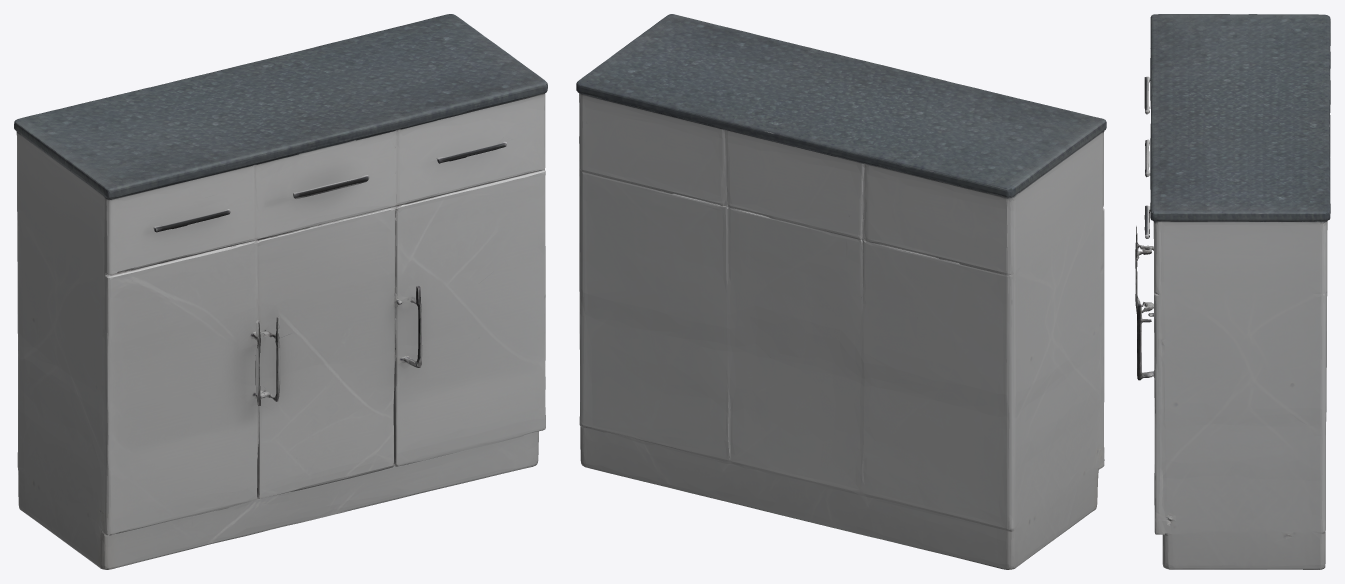
The model's file is 50113hy_kitchenbase_3door_grey_plaza.glb.
3 views of the same model, side by side, from view 1: azimuth 30°, elevation 25°; view 2: azimuth 150°, elevation 25°; view 3: azimuth 270°, elevation 25° (orthographic). The views are drawn at different scales.
Parts seen in each view (by area): view 1: world; view 2: world; view 3: world.
Part boxes in pixels (left/top/right/bottom): world: left=14, top=14, right=547, bottom=569; world: left=576, top=14, right=1106, bottom=569; world: left=1135, top=14, right=1330, bottom=569.
Size of the model in its own units: 1 by 0.8407 by 0.4142.
1 material, 1 textured.
